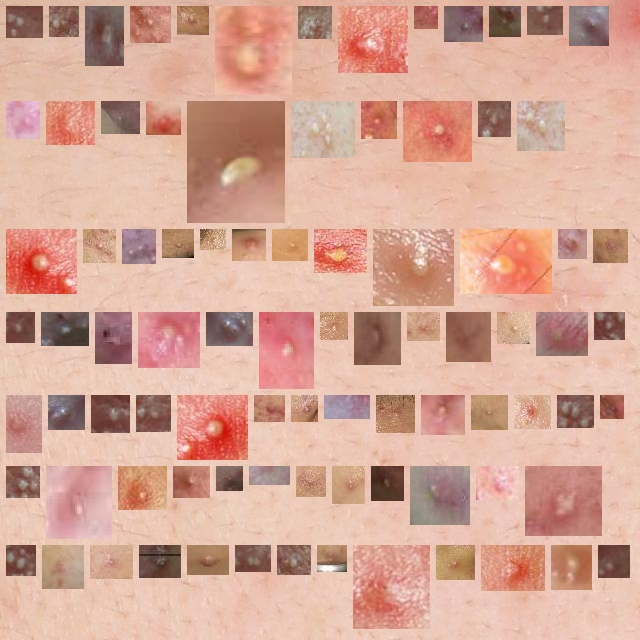pustule: (195, 109, 277, 215), (223, 14, 284, 87), (361, 553, 422, 621), (381, 237, 446, 298), (468, 237, 544, 286), (533, 474, 594, 528), (54, 474, 104, 531), (346, 14, 400, 65), (14, 237, 69, 286), (185, 403, 240, 452), (411, 109, 464, 154), (267, 320, 306, 381), (299, 109, 347, 150), (418, 474, 462, 517), (146, 320, 192, 360), (489, 553, 537, 583), (362, 320, 393, 357), (8, 403, 34, 445), (525, 109, 557, 143), (322, 237, 359, 265), (93, 14, 116, 58), (544, 320, 580, 348), (454, 320, 483, 354), (54, 109, 87, 137), (126, 474, 159, 502), (103, 320, 124, 356), (50, 553, 76, 581), (559, 553, 584, 582), (429, 403, 457, 427), (577, 14, 601, 38), (49, 320, 81, 338), (214, 320, 245, 338), (138, 14, 163, 35), (99, 403, 122, 425), (384, 403, 407, 425), (484, 474, 511, 492), (98, 553, 125, 571), (332, 395, 362, 411), (452, 14, 475, 34), (147, 553, 173, 570), (369, 109, 389, 131), (444, 553, 467, 572), (56, 403, 77, 422), (144, 403, 163, 424), (479, 403, 500, 422), (14, 109, 32, 131), (109, 109, 132, 126), (522, 403, 543, 421), (340, 474, 357, 496), (195, 553, 221, 567), (565, 403, 586, 420), (154, 109, 173, 127), (130, 237, 148, 256), (601, 237, 620, 255), (486, 109, 503, 129), (14, 14, 35, 30), (181, 474, 202, 490), (379, 474, 396, 493), (280, 237, 300, 253), (306, 14, 324, 31), (91, 237, 108, 255), (240, 237, 258, 253), (14, 474, 32, 490), (505, 320, 522, 336), (606, 553, 622, 570), (535, 14, 555, 27), (285, 553, 303, 567), (497, 14, 513, 29), (415, 320, 432, 333), (243, 553, 263, 564), (57, 14, 71, 29), (304, 474, 318, 489), (14, 553, 28, 568), (185, 14, 201, 27), (170, 237, 186, 250), (14, 320, 27, 335), (566, 237, 579, 251), (602, 320, 617, 332), (262, 403, 277, 414), (325, 553, 339, 564), (328, 320, 340, 332), (299, 403, 310, 414), (224, 474, 235, 483), (608, 403, 616, 411), (422, 14, 430, 21), (208, 237, 218, 242)
